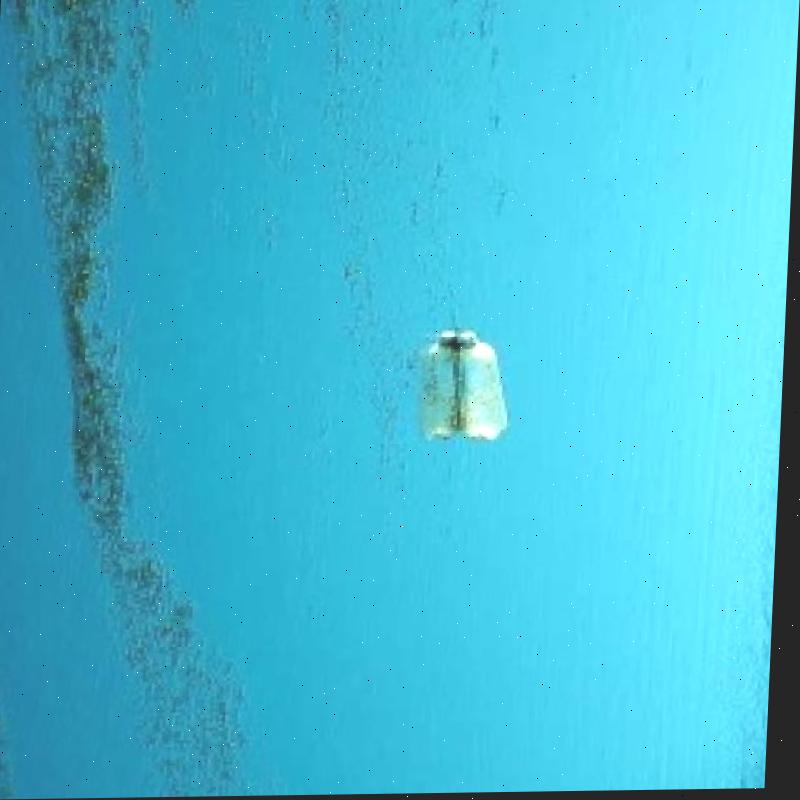botella: (453, 330, 513, 443)
